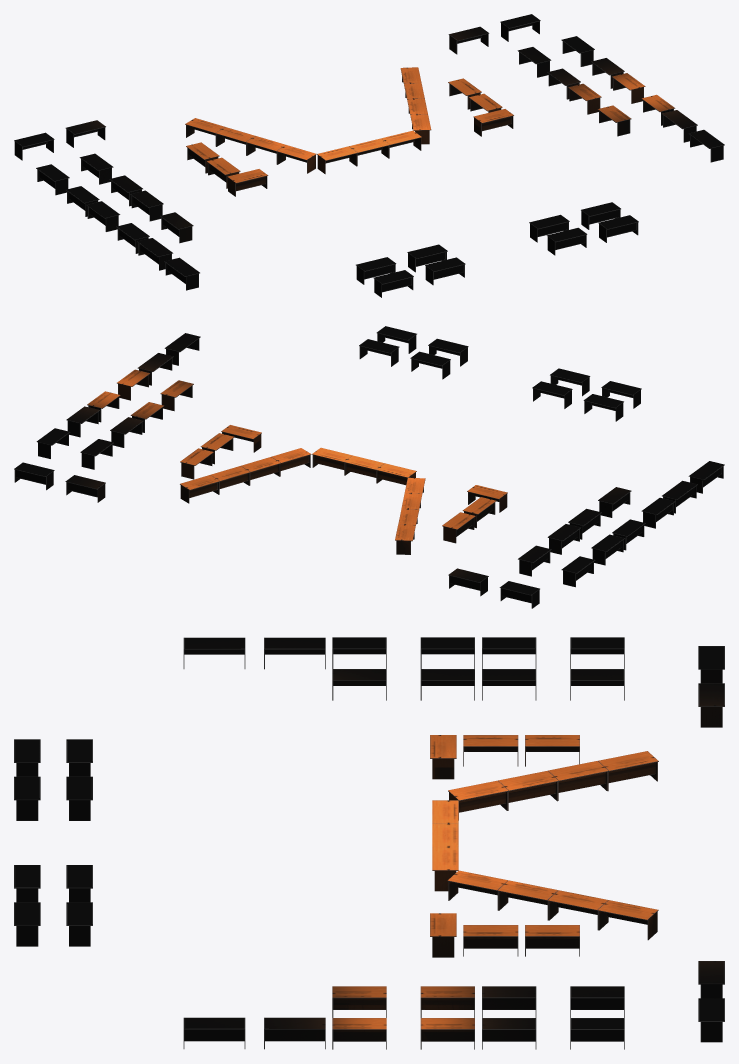
Rendered from LowerDesk.DAE.
3 views of the same model, one above another, from view 1: azimuth 30°, elevation 25°; view 2: azimuth 150°, elevation 25°; view 3: azimuth 270°, elevation 25° (orthographic). The views are drawn at different scales.
Visible parts, largest first — view 1: LowerDesk; view 2: LowerDesk; view 3: LowerDesk.
Boxes of the visible parts, x1,y1,x2,y2 form: LowerDesk: [14, 14, 724, 297]; LowerDesk: [14, 326, 724, 608]; LowerDesk: [14, 637, 724, 1049].
Size of the model in its own units: 1224 by 939 by 30.96.
Materials: 1 (1 with a texture image).
